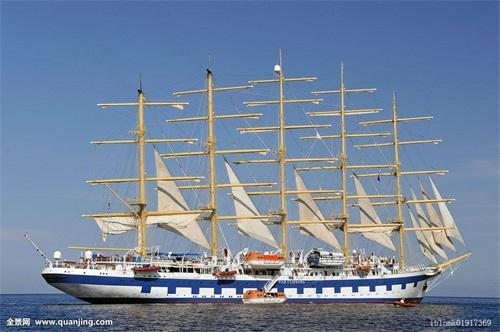Ship: (44, 50, 472, 308)
